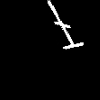double_crochet: (48, 1, 82, 48)
